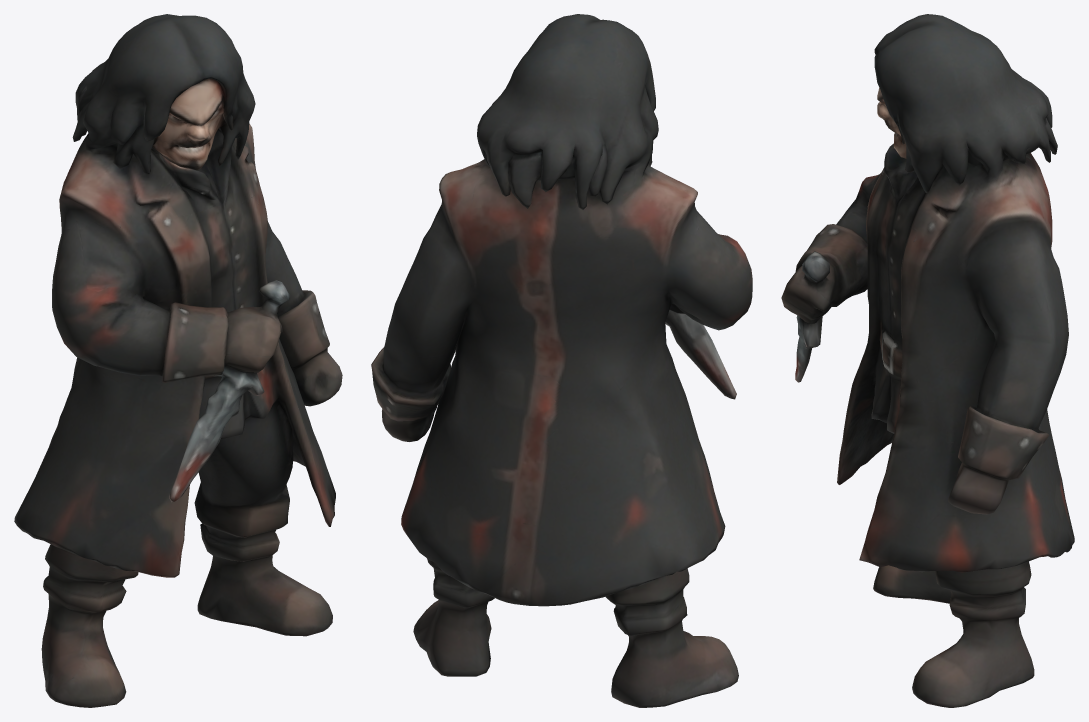
File: npc_animal.glb
3 views of the same model, side by side, from view 1: azimuth 30°, elevation 25°; view 2: azimuth 150°, elevation 25°; view 3: azimuth 270°, elevation 25° (orthographic). The views are drawn at different scales.
Visible parts, largest first — view 1: Mesh_0; view 2: Mesh_0; view 3: Mesh_0.
Part boxes in pixels (x1=…): Mesh_0: x1=14, y1=14, x2=342, y2=707; Mesh_0: x1=371, y1=14, x2=752, y2=707; Mesh_0: x1=781, y1=14, x2=1074, y2=707.
Bounding box in the file's own units: 1.03 × 2 × 0.8665.
1 material, 1 textured.
